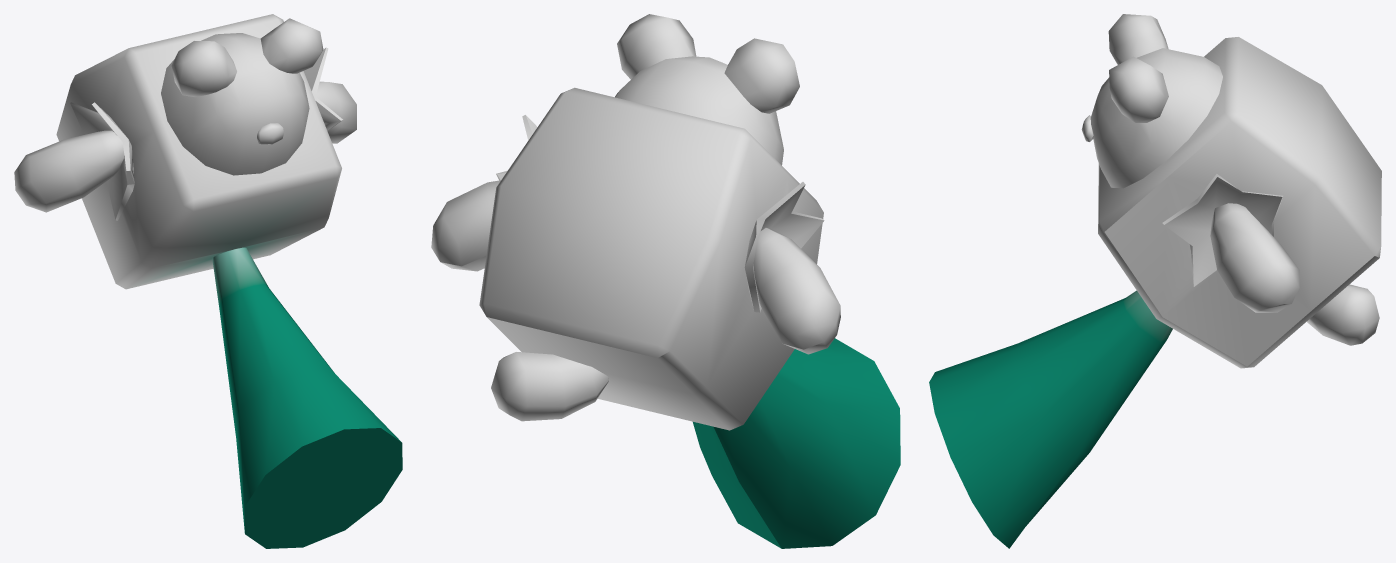
File: S04_Reptile08_L2_Tail.glb
3 renders of one model, left to right at view 1: azimuth 30°, elevation 25°; view 2: azimuth 150°, elevation 25°; view 3: azimuth 270°, elevation 25°, orthographic. The views are drawn at different scales.
Parts seen in each view (by area): view 1: S04_Reptile08_L2_Tail__Tail_M__surface0__lod0; view 2: S04_Reptile08_L2_Tail__Tail_M__surface0__lod0; view 3: S04_Reptile08_L2_Tail__Tail_M__surface0__lod0.
Boxes of the visible parts, x1=… form: S04_Reptile08_L2_Tail__Tail_M__surface0__lod0: x1=14, y1=14, x2=402, y2=548; S04_Reptile08_L2_Tail__Tail_M__surface0__lod0: x1=431, y1=14, x2=900, y2=548; S04_Reptile08_L2_Tail__Tail_M__surface0__lod0: x1=929, y1=14, x2=1381, y2=548.
Size of the model in its own units: 51.61 by 70.28 by 57.39.
